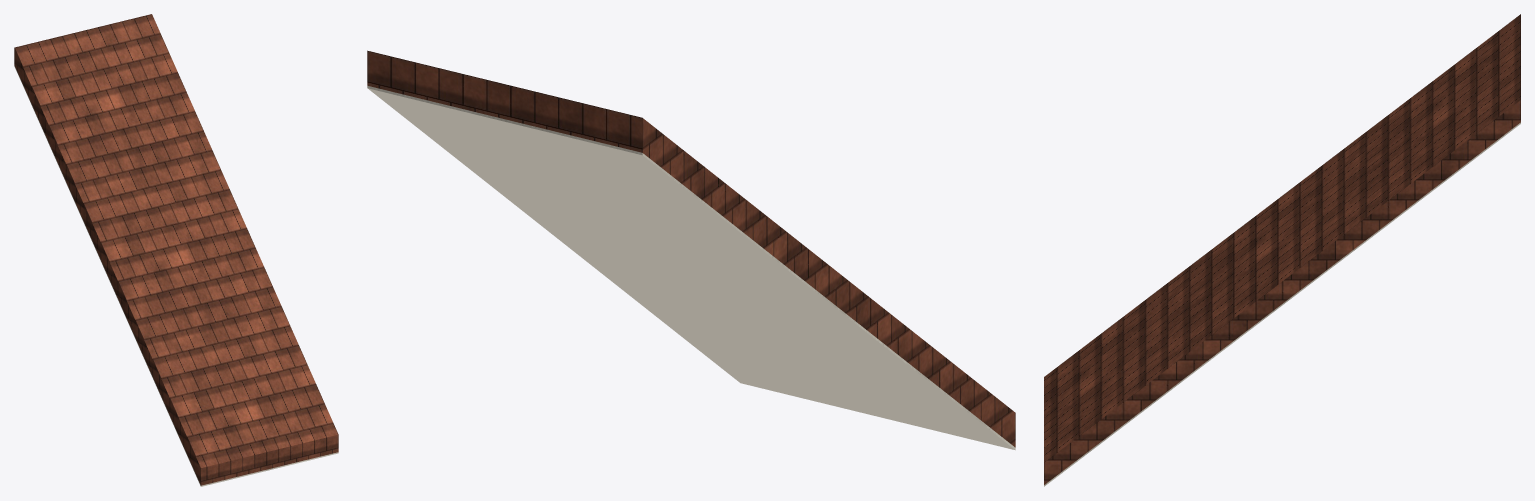
The model's file is roof_slope_end_l.glb.
3 renders of one model, left to right at view 1: azimuth 30°, elevation 25°; view 2: azimuth 150°, elevation 25°; view 3: azimuth 270°, elevation 25°, orthographic. The views are drawn at different scales.
Visible parts, largest first — view 1: roof_slope_end_l_roof_tiles, roof_slope_end_l_plaster; view 2: roof_slope_end_l_plaster, roof_slope_end_l_roof_tiles; view 3: roof_slope_end_l_roof_tiles, roof_slope_end_l_plaster.
Part boxes in pixels (x1=…): roof_slope_end_l_roof_tiles: x1=14, y1=14, x2=338, y2=485; roof_slope_end_l_plaster: x1=14, y1=65, x2=338, y2=486; roof_slope_end_l_plaster: x1=367, y1=85, x2=1015, y2=450; roof_slope_end_l_roof_tiles: x1=367, y1=50, x2=1015, y2=447; roof_slope_end_l_roof_tiles: x1=1044, y1=14, x2=1520, y2=484; roof_slope_end_l_plaster: x1=1044, y1=122, x2=1520, y2=486.
Bounding box in the file's own units: 2.3 × 4.84 × 5.4.
2 materials, 2 textured.
